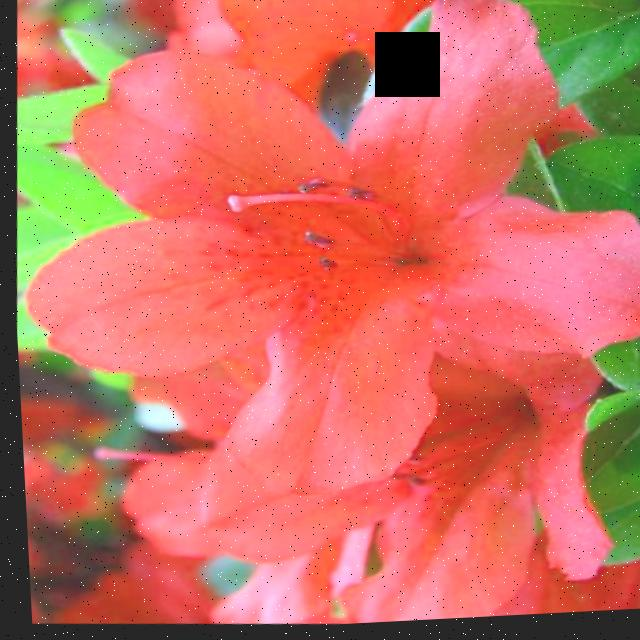azalea: (26, 0, 640, 639)
